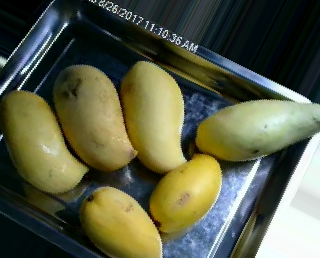Mango: (52, 64, 137, 171), (0, 90, 88, 193), (119, 59, 187, 174), (196, 99, 320, 159), (151, 153, 222, 234), (82, 186, 162, 257)
